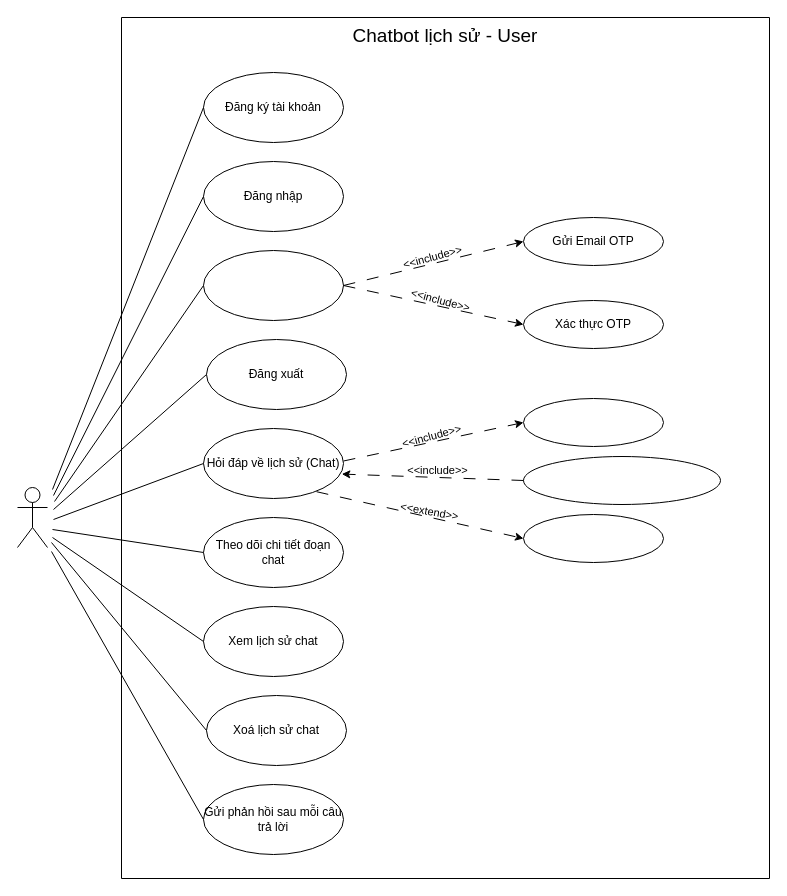
Image size: 787x896. Some labels were removed from this diagram. The centre of each missing label's shape, as x and y in pixels:
Học & lấy dữ liệu từ Wiki: [593,538]
Quên mật khẩu: [273,285]
Tách từ khoá & Rút gọn ngữ cảnh: [621,480]
Tạo Promt gửi LLM: [593,422]
User: [32,517]
